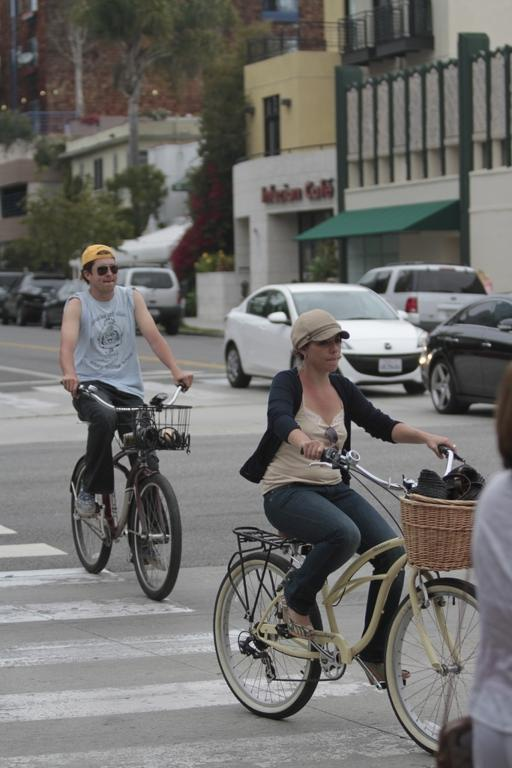non-vehicle: (213, 444, 481, 757), (59, 379, 192, 599)
